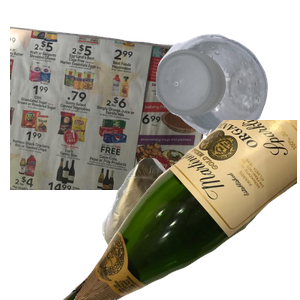glass: (60, 120, 300, 300)
paper: (10, 21, 222, 201)
plastic: (153, 31, 300, 161)
trash: (99, 155, 268, 300)
